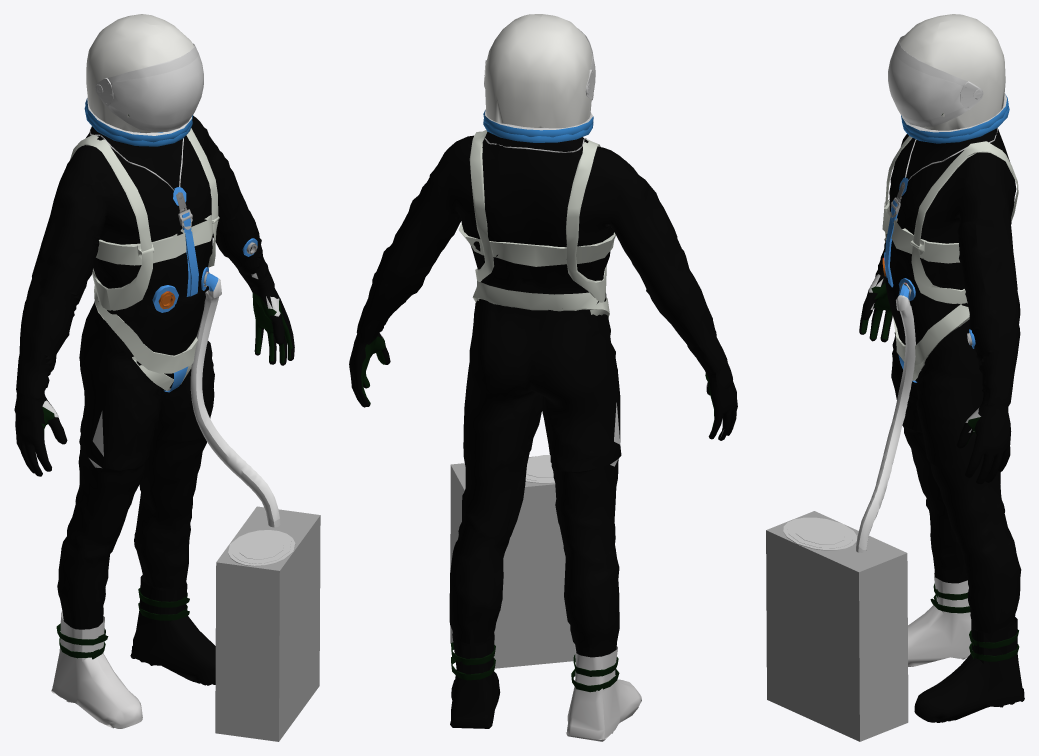
File: gemini_suit_lod1.glb
3 renders of one model, left to right at view 1: azimuth 30°, elevation 25°; view 2: azimuth 150°, elevation 25°; view 3: azimuth 270°, elevation 25°, orthographic. The views are drawn at different scales.
Parts seen in each view (by area): view 1: gemini_suit_lod1; view 2: gemini_suit_lod1; view 3: gemini_suit_lod1.
Part boxes in pixels (box(x1,y1,x2,y2)): gemini_suit_lod1: box(14, 14, 320, 741); gemini_suit_lod1: box(349, 14, 737, 741); gemini_suit_lod1: box(766, 14, 1024, 741).
Size of the model in its own units: 0.9954 by 2 by 0.708.
